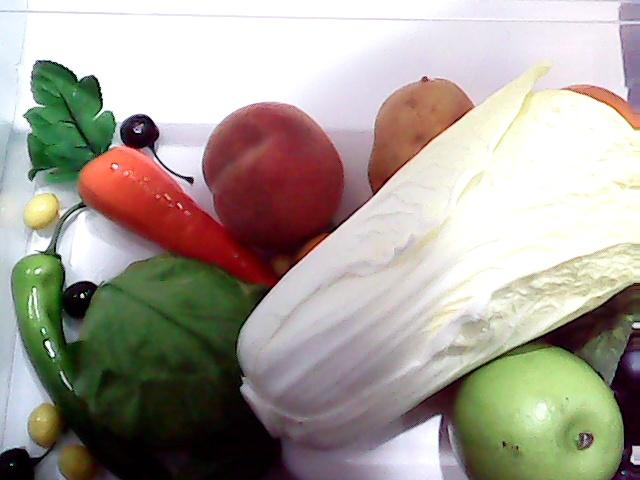apple: (444, 340, 628, 480), (450, 346, 622, 480)
cabbage: (80, 255, 276, 472)
carrot: (25, 58, 283, 292)
lemon: (564, 75, 640, 131)
mango: (300, 233, 334, 267)
napa cabbage: (238, 64, 640, 448)
peach: (200, 101, 348, 251)
pepper: (5, 228, 186, 480)
potato: (366, 74, 474, 198)
